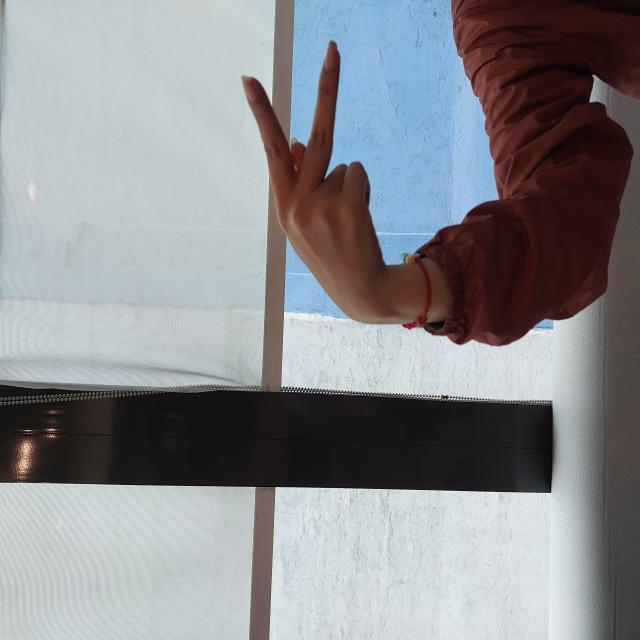K: (316, 238, 604, 386)
